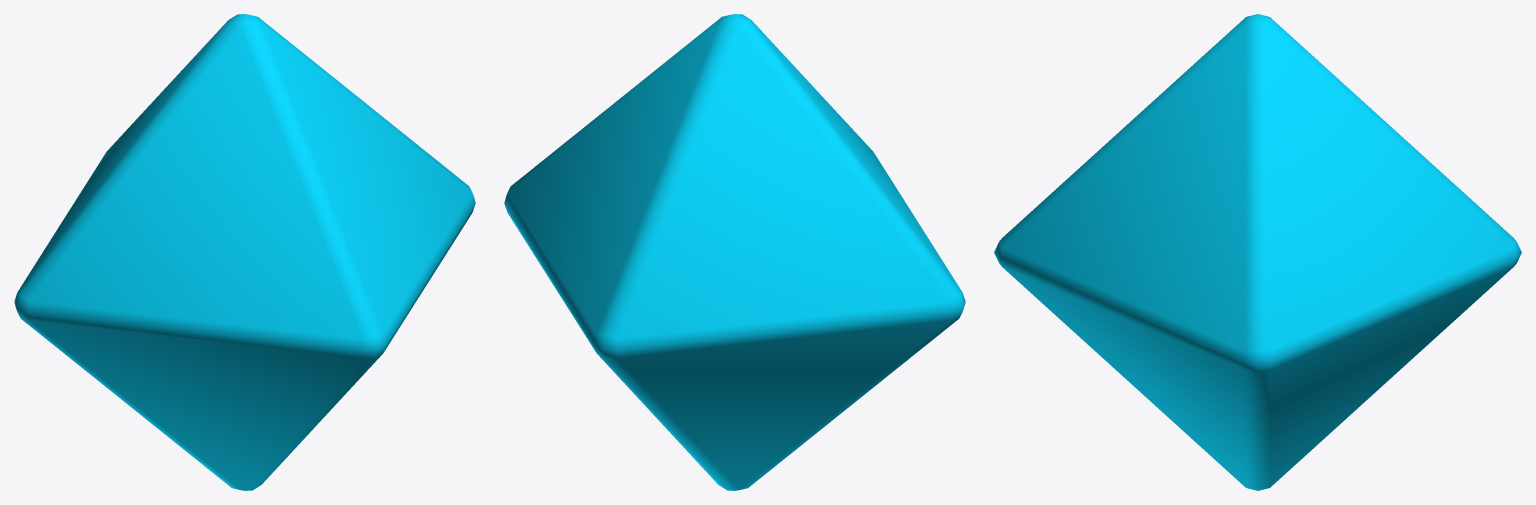
Rendered from DiamondBig_1.fbx.
The picture shows the model from 3 angles, left to right: view 1: azimuth 30°, elevation 25°; view 2: azimuth 150°, elevation 25°; view 3: azimuth 270°, elevation 25°; orthographic projection.
Parts seen in each view (by area): view 1: Sphere.001; view 2: Sphere.001; view 3: Sphere.001.
Part boxes in pixels (x1=…): Sphere.001: x1=14, y1=14, x2=475, y2=490; Sphere.001: x1=504, y1=14, x2=965, y2=490; Sphere.001: x1=994, y1=14, x2=1521, y2=490.
Bounding box in the file's own units: 380 × 378 × 380.
